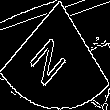N_NE: (32, 23, 78, 87)
